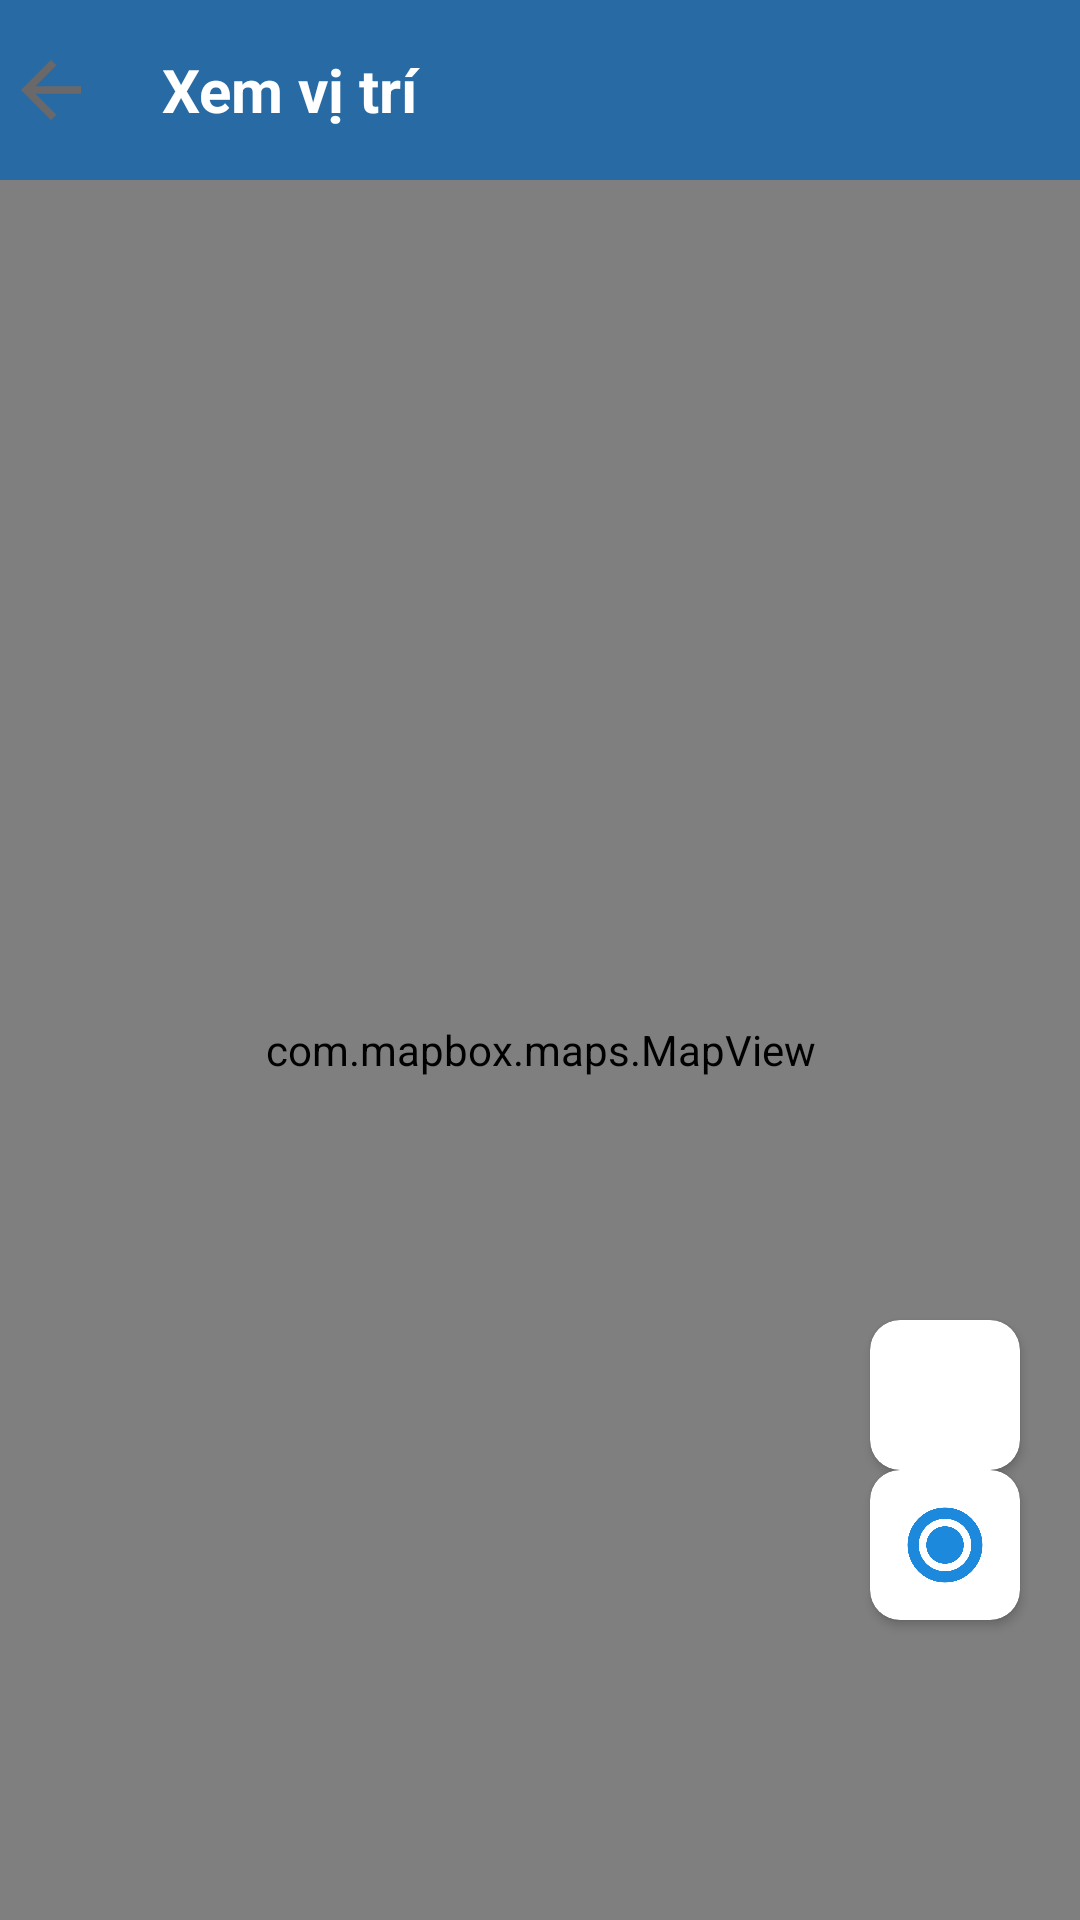

Where icons sit on this 1080 × 1920 app screen, as rect(x1, y1, x2, y2):
back: rect(21, 60, 81, 120)
